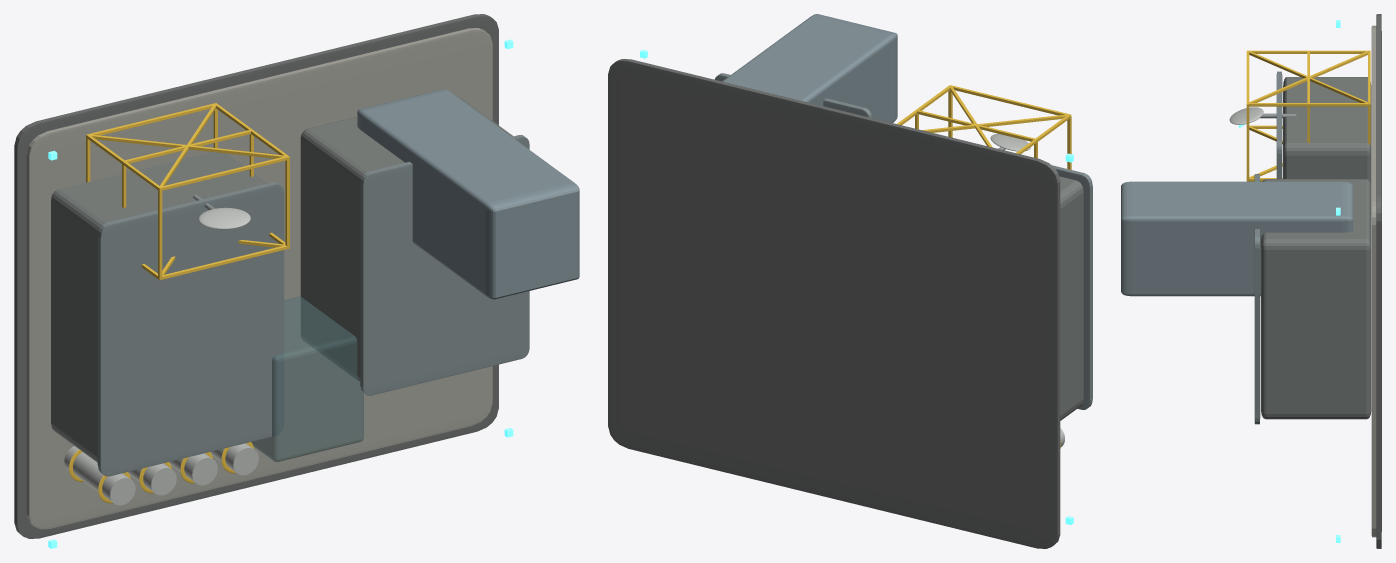
The model's file is b-25-tech-lab-lod1.glb.
3 renders of one model, left to right at view 1: azimuth 30°, elevation 25°; view 2: azimuth 150°, elevation 25°; view 3: azimuth 270°, elevation 25°, orthographic. The views are drawn at different scales.
Visible parts, largest first — view 1: foundation_inner_pad, lab_west_roof, laboratory_tower, lab_east_roof, lab_west_main_hall, foundation, lab_east_main_hall, primary_glass_atrium, cryogenic_tank_0_vessel, cryogenic_tank_2_vessel, cryogenic_tank_3_vessel, cryogenic_tank_1_vessel (+2 smaller); view 2: foundation, laboratory_tower, lab_west_main_hall, lab_west_roof, outdoor_test_rig_brace_b_1.5; view 3: lab_east_main_hall, laboratory_tower, lab_west_main_hall, foundation, foundation_inner_pad, lab_east_roof, lab_west_roof, outdoor_test_rig_brace_b_1.5, outdoor_test_rig_brace_a_1.5, outdoor_test_rig_column_e_n, outdoor_test_rig_column_w_n, lab_sensor_dish.
Part boxes in pixels (box(x1,y1,x2,y2)): foundation_inner_pad: box(26, 28, 492, 529); lab_west_roof: box(97, 182, 284, 476); laboratory_tower: box(357, 89, 579, 299); lab_east_roof: box(360, 135, 529, 395); lab_west_main_hall: box(51, 152, 267, 462); foundation: box(14, 14, 498, 538); lab_east_main_hall: box(300, 93, 512, 382); primary_glass_atrium: box(251, 296, 363, 461); cryogenic_tank_0_vessel: box(64, 446, 135, 505); cryogenic_tank_2_vessel: box(169, 453, 217, 485); cryogenic_tank_3_vessel: box(210, 443, 258, 475); cryogenic_tank_1_vessel: box(128, 463, 176, 495); foundation: box(608, 59, 1060, 548); laboratory_tower: box(722, 14, 897, 122); lab_west_main_hall: box(1059, 176, 1083, 420); lab_west_roof: box(1052, 165, 1092, 409); outdoor_test_rig_brace_b_1.5: box(922, 114, 1066, 132); lab_east_main_hall: box(1261, 179, 1371, 419); laboratory_tower: box(1121, 181, 1352, 296); lab_west_main_hall: box(1283, 77, 1371, 185); foundation: box(1376, 14, 1381, 548); foundation_inner_pad: box(1371, 25, 1376, 537); lab_east_roof: box(1254, 174, 1260, 424); lab_west_roof: box(1276, 71, 1282, 178); outdoor_test_rig_brace_b_1.5: box(1249, 51, 1367, 102); outdoor_test_rig_brace_a_1.5: box(1249, 51, 1367, 102); outdoor_test_rig_column_e_n: box(1249, 103, 1368, 106); outdoor_test_rig_column_w_n: box(1249, 50, 1367, 53); lab_sensor_dish: box(1229, 107, 1263, 124).
Size of what is drawn, in the model's own units: 17 by 14 by 9.45.
